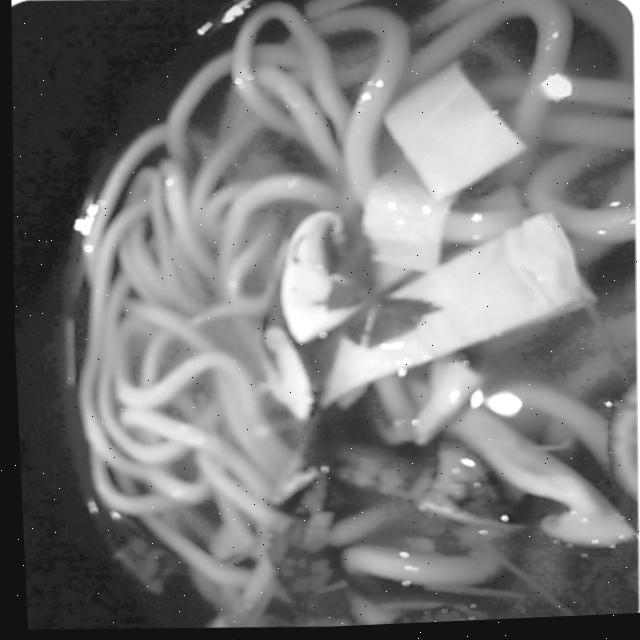面条主食: (38, 0, 640, 639)
